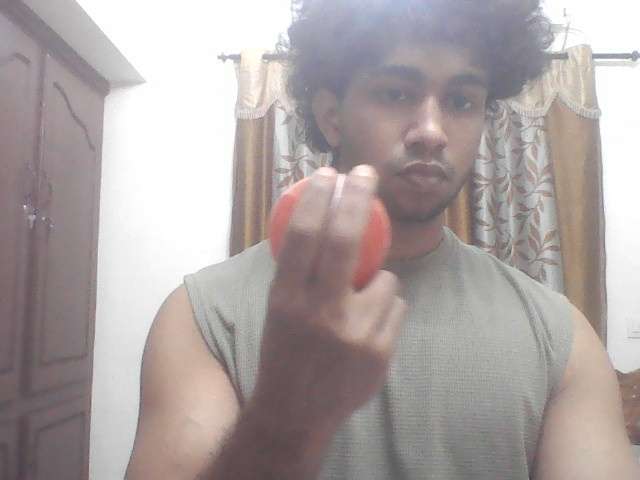cricket_ball: (265, 167, 395, 292)
